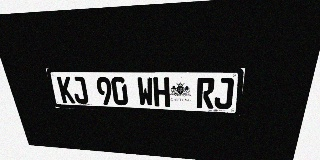0: (110, 77, 128, 105)
9: (95, 77, 114, 105)
H: (153, 77, 170, 107)
J: (214, 78, 234, 109), (70, 76, 89, 104)
K: (57, 76, 76, 103)
R: (197, 78, 215, 109)
W: (137, 77, 154, 106)
